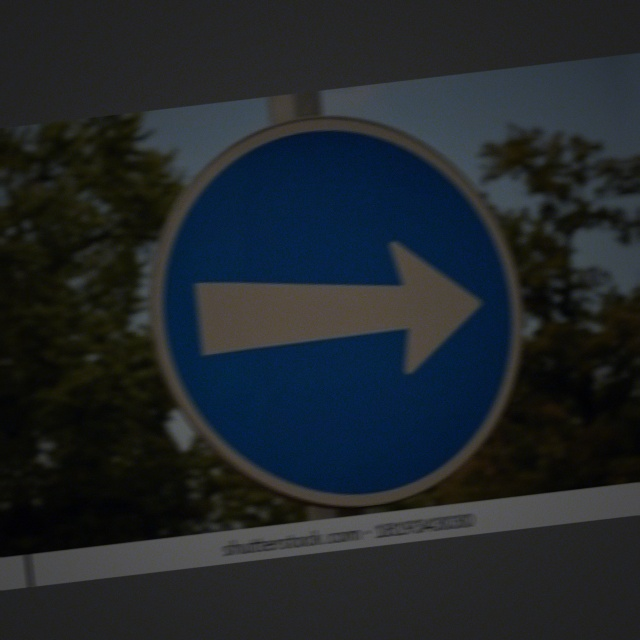Compulsory_Turn_Right: (136, 95, 531, 517)
